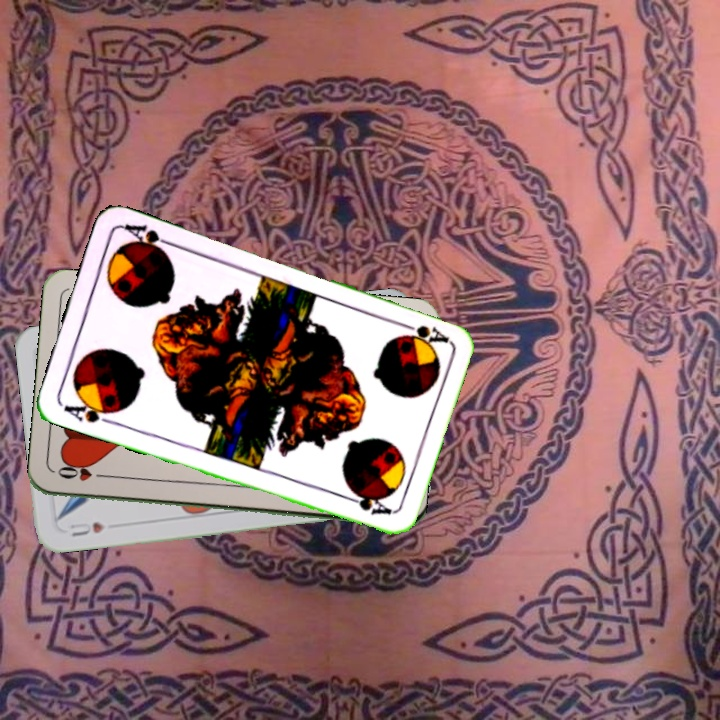HO: (53, 462, 112, 484)
HU: (66, 518, 107, 539)
SA: (59, 394, 119, 427), (393, 317, 451, 346)
